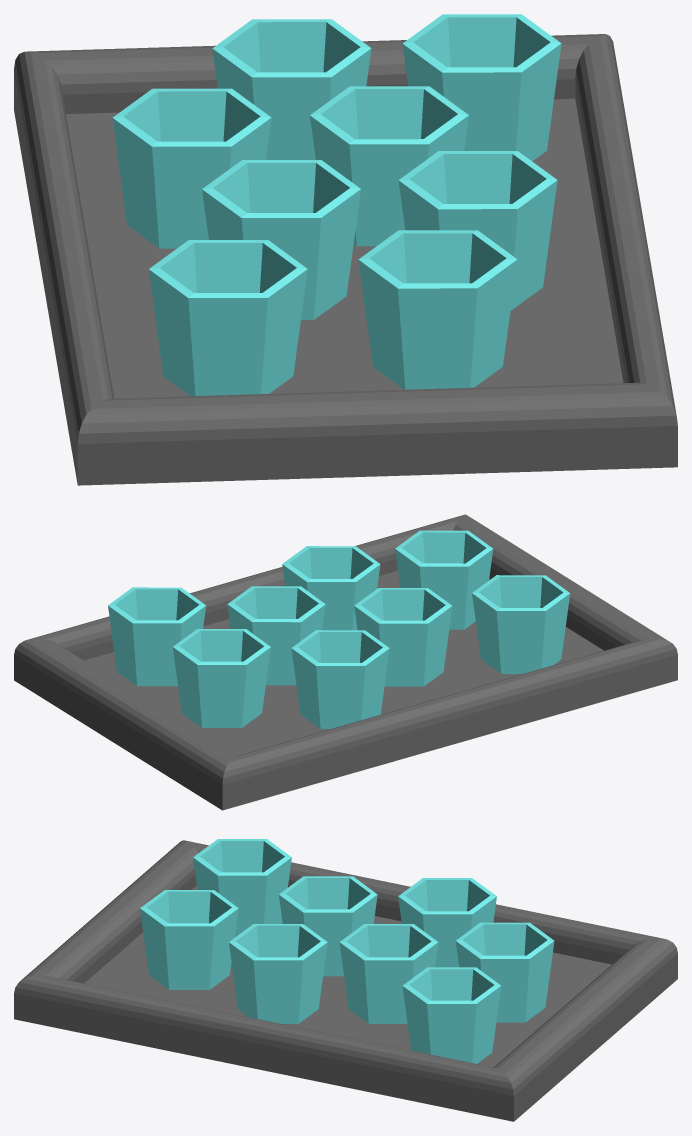
Rendered from SM_Prop_CupTray.fbx.
3 views of the same model, one above another, from view 1: azimuth 30°, elevation 25°; view 2: azimuth 150°, elevation 25°; view 3: azimuth 270°, elevation 25° (orthographic). The views are drawn at different scales.
Visible parts, largest first — view 1: Bandeja; view 2: Bandeja; view 3: Bandeja.
Boxes of the visible parts, bbox=[...] form: Bandeja: bbox=[14, 14, 677, 485]; Bandeja: bbox=[14, 514, 677, 810]; Bandeja: bbox=[14, 839, 677, 1121].
Size of the model in its own units: 23.72 by 3.67 by 27.13.
